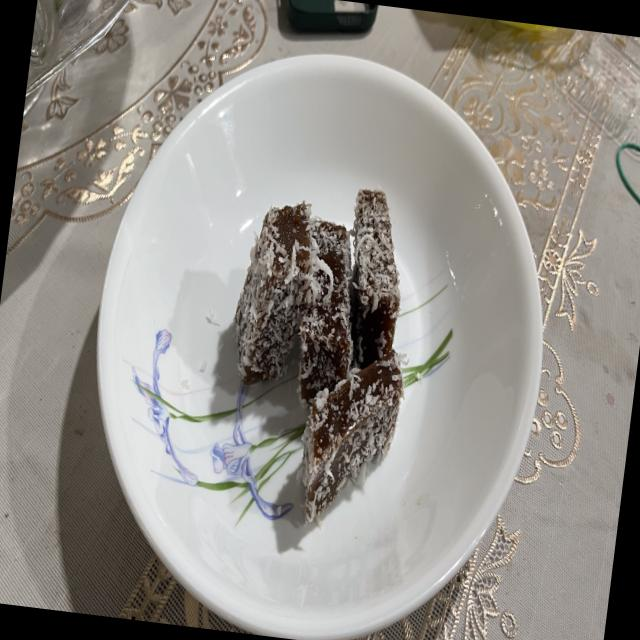kaswi: (300, 349, 403, 522), (234, 201, 317, 385), (298, 219, 352, 405), (350, 188, 400, 368)
